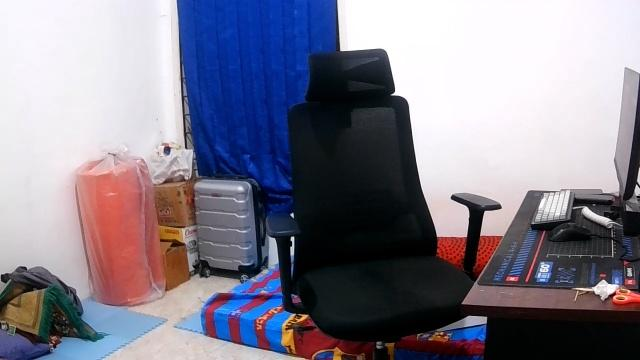Kursi: (263, 47, 503, 359)
Meja: (460, 188, 639, 357)
